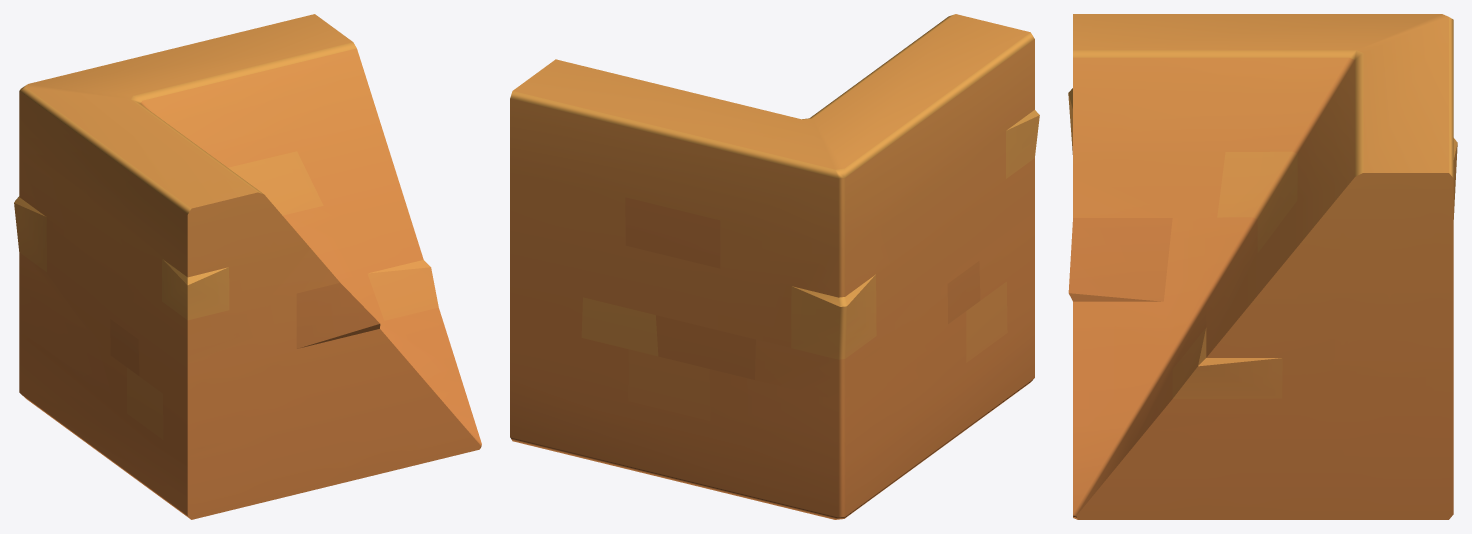
The model's file is pyramid_wall_corner_conc.fbx.
3 renders of one model, left to right at view 1: azimuth 30°, elevation 25°; view 2: azimuth 150°, elevation 25°; view 3: azimuth 270°, elevation 25°, orthographic. The views are drawn at different scales.
Parts seen in each view (by area): view 1: pyramid_wall_corner_conc; view 2: pyramid_wall_corner_conc; view 3: pyramid_wall_corner_conc.
Part boxes in pixels (left/top/right/bottom): pyramid_wall_corner_conc: left=14, top=14, right=481, bottom=519; pyramid_wall_corner_conc: left=510, top=14, right=1039, bottom=519; pyramid_wall_corner_conc: left=1068, top=14, right=1457, bottom=519.
Bounding box in the file's own units: 410 × 402 × 409.
